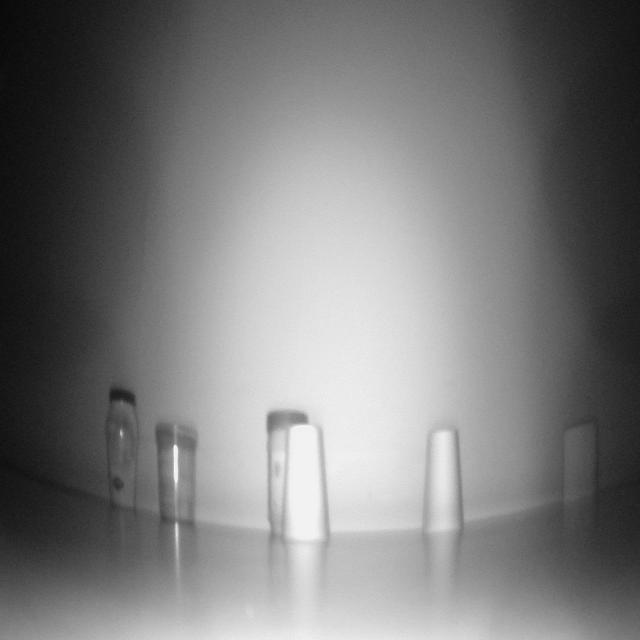targets: (265, 408, 331, 552), (421, 422, 465, 538), (104, 381, 140, 513), (155, 420, 197, 528), (562, 419, 599, 510)
